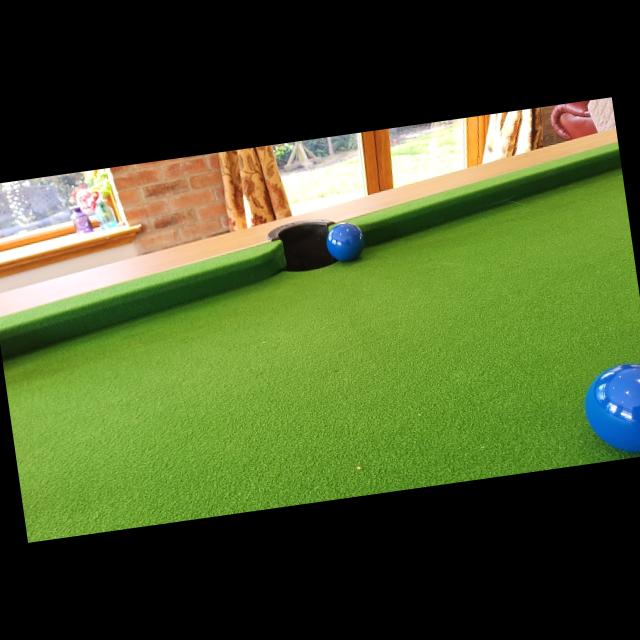Ball: (579, 359, 640, 462), (323, 220, 368, 264)
